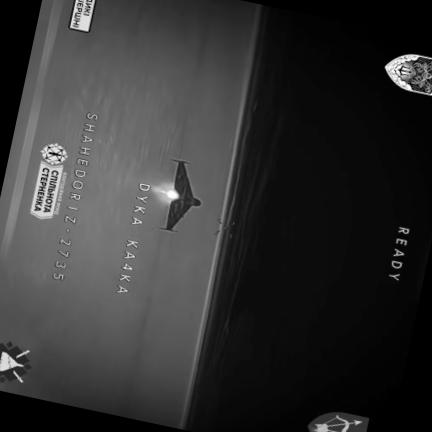Shahed: (158, 159, 200, 231)
